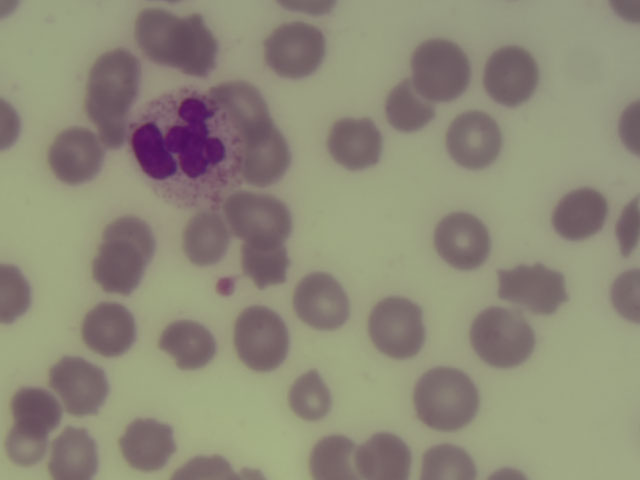Platelets: (210, 270, 241, 302)
RBC: (494, 264, 573, 312), (46, 423, 103, 480), (435, 212, 492, 268), (281, 370, 338, 426), (118, 415, 175, 471), (52, 356, 109, 412), (550, 187, 607, 243), (368, 300, 425, 356), (230, 311, 287, 367), (158, 317, 215, 373), (81, 300, 138, 356), (93, 223, 150, 279), (293, 273, 350, 329), (326, 116, 383, 172), (445, 110, 502, 166), (480, 47, 537, 103), (414, 40, 471, 96), (46, 129, 103, 185), (84, 52, 141, 108), (236, 125, 293, 181), (217, 77, 274, 133), (267, 22, 324, 78), (417, 371, 474, 427), (474, 310, 531, 366), (352, 428, 413, 480), (173, 16, 220, 77), (306, 435, 367, 480), (230, 193, 290, 237), (386, 82, 433, 135), (135, 9, 181, 62), (178, 214, 227, 262), (239, 236, 288, 283), (173, 448, 242, 480), (420, 443, 478, 480), (1, 261, 33, 326), (3, 423, 49, 468), (606, 265, 640, 325), (7, 389, 57, 429), (610, 192, 640, 257), (614, 99, 640, 161)
WBC: (132, 87, 235, 204)
